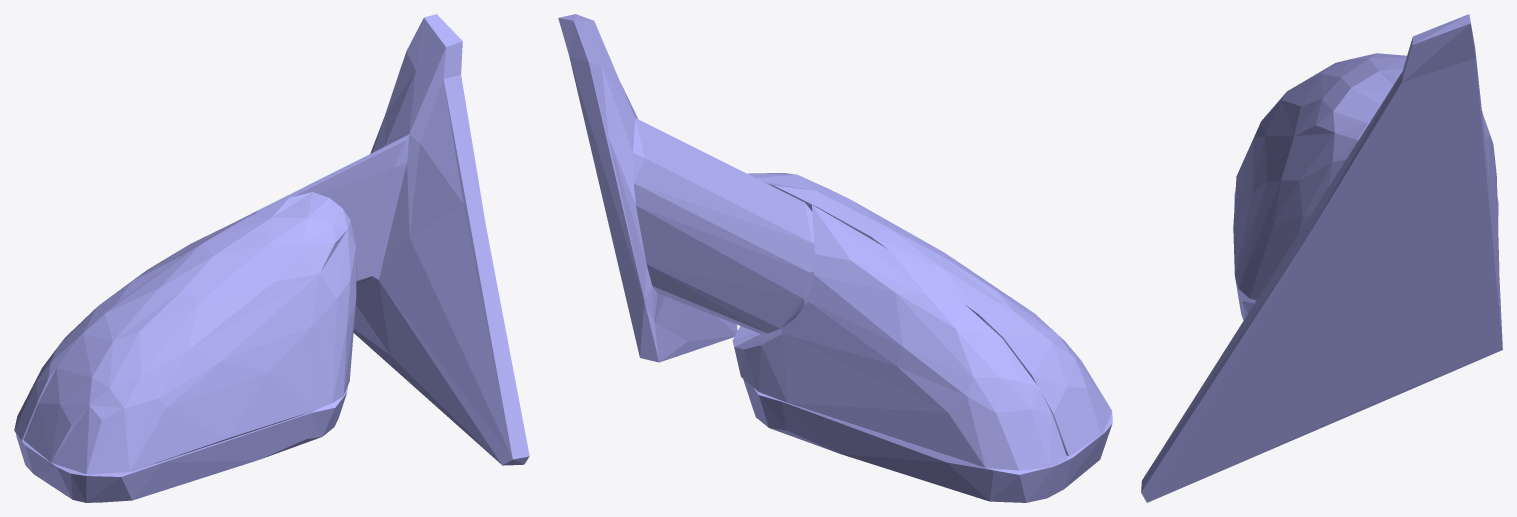
The model's file is mirror 500.obj.
3 views of the same model, side by side, from view 1: azimuth 30°, elevation 25°; view 2: azimuth 150°, elevation 25°; view 3: azimuth 270°, elevation 25° (orthographic). The views are drawn at different scales.
Bounding box in the file's own units: 0.3632 × 0.282 × 0.1851.
